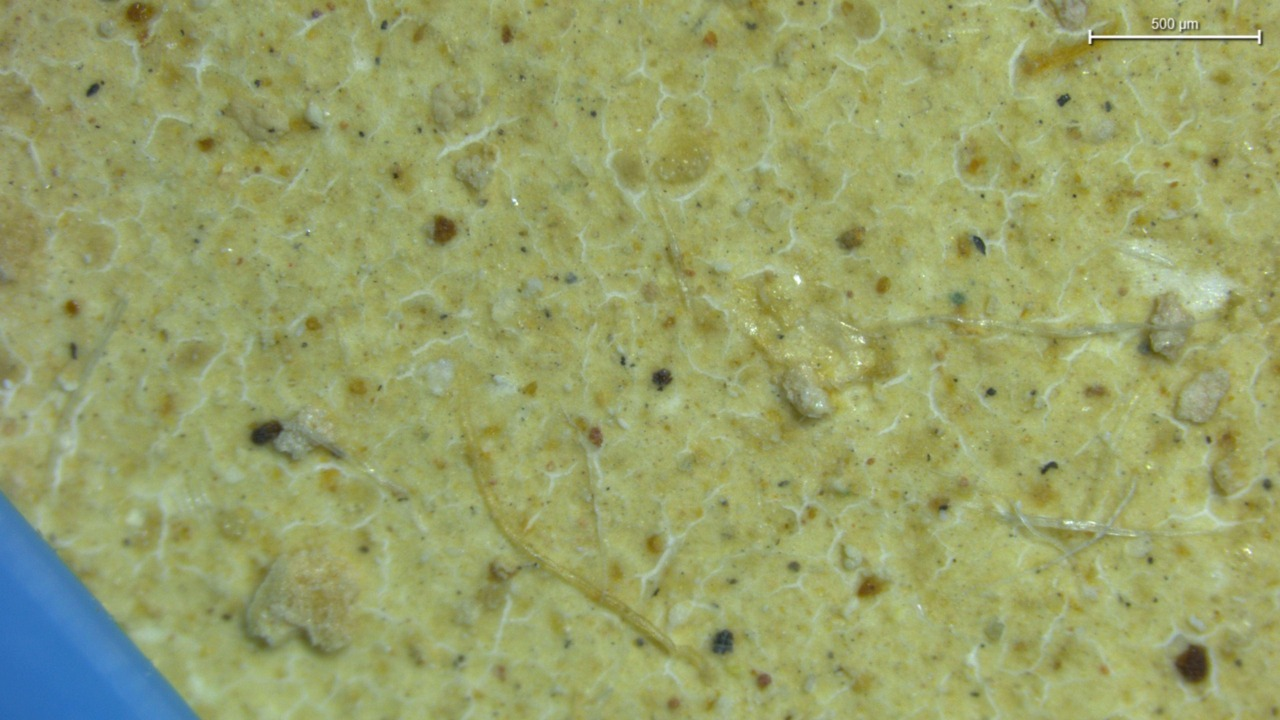microplastic_fragment: (247, 547, 359, 652), (1146, 292, 1194, 359), (276, 404, 329, 459), (1176, 368, 1229, 423), (780, 368, 830, 418)
